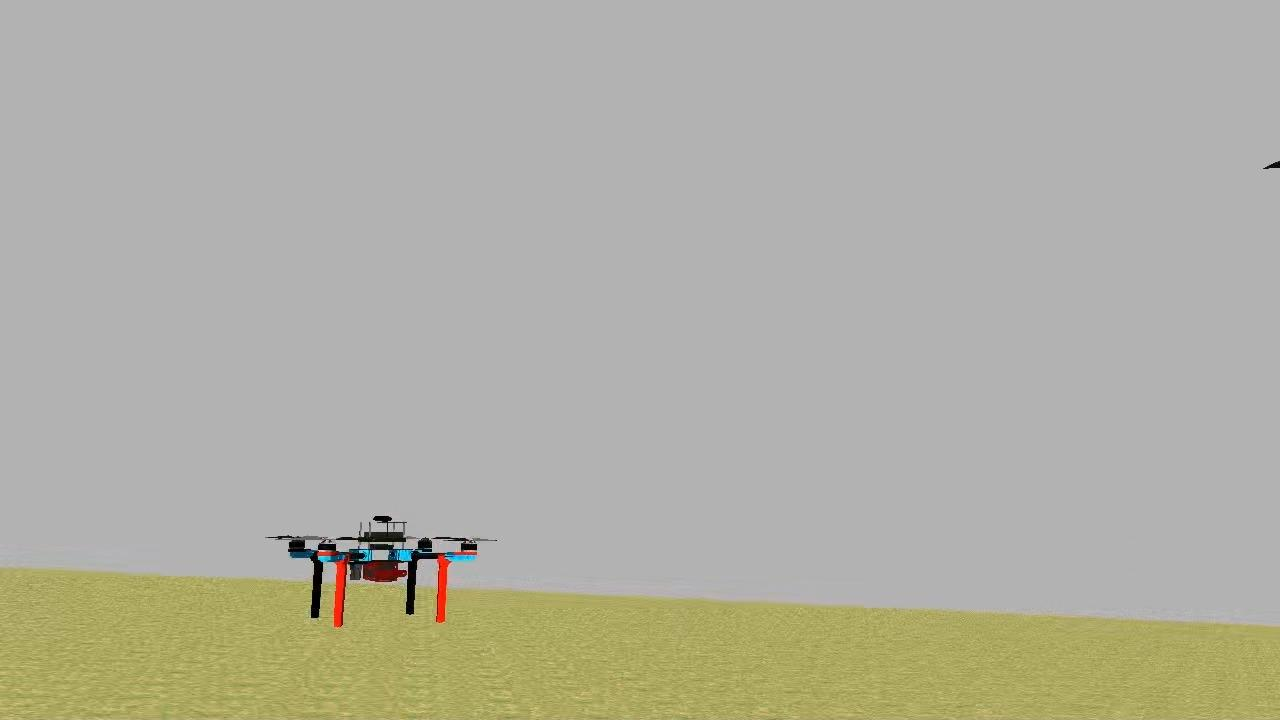UAV: (286, 510, 484, 630)
